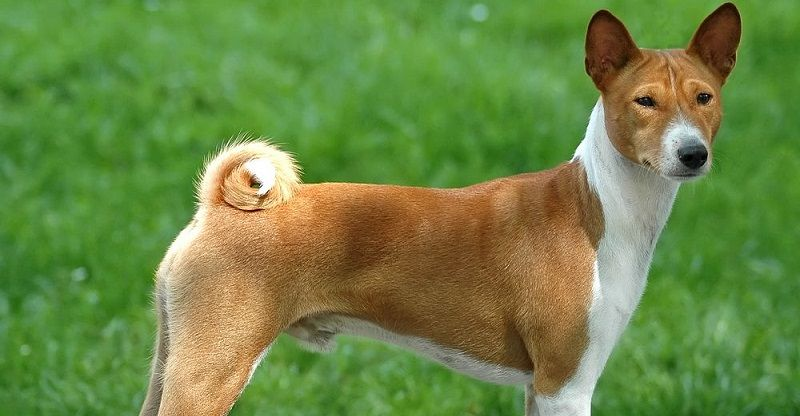dog: (122, 29, 759, 416)
